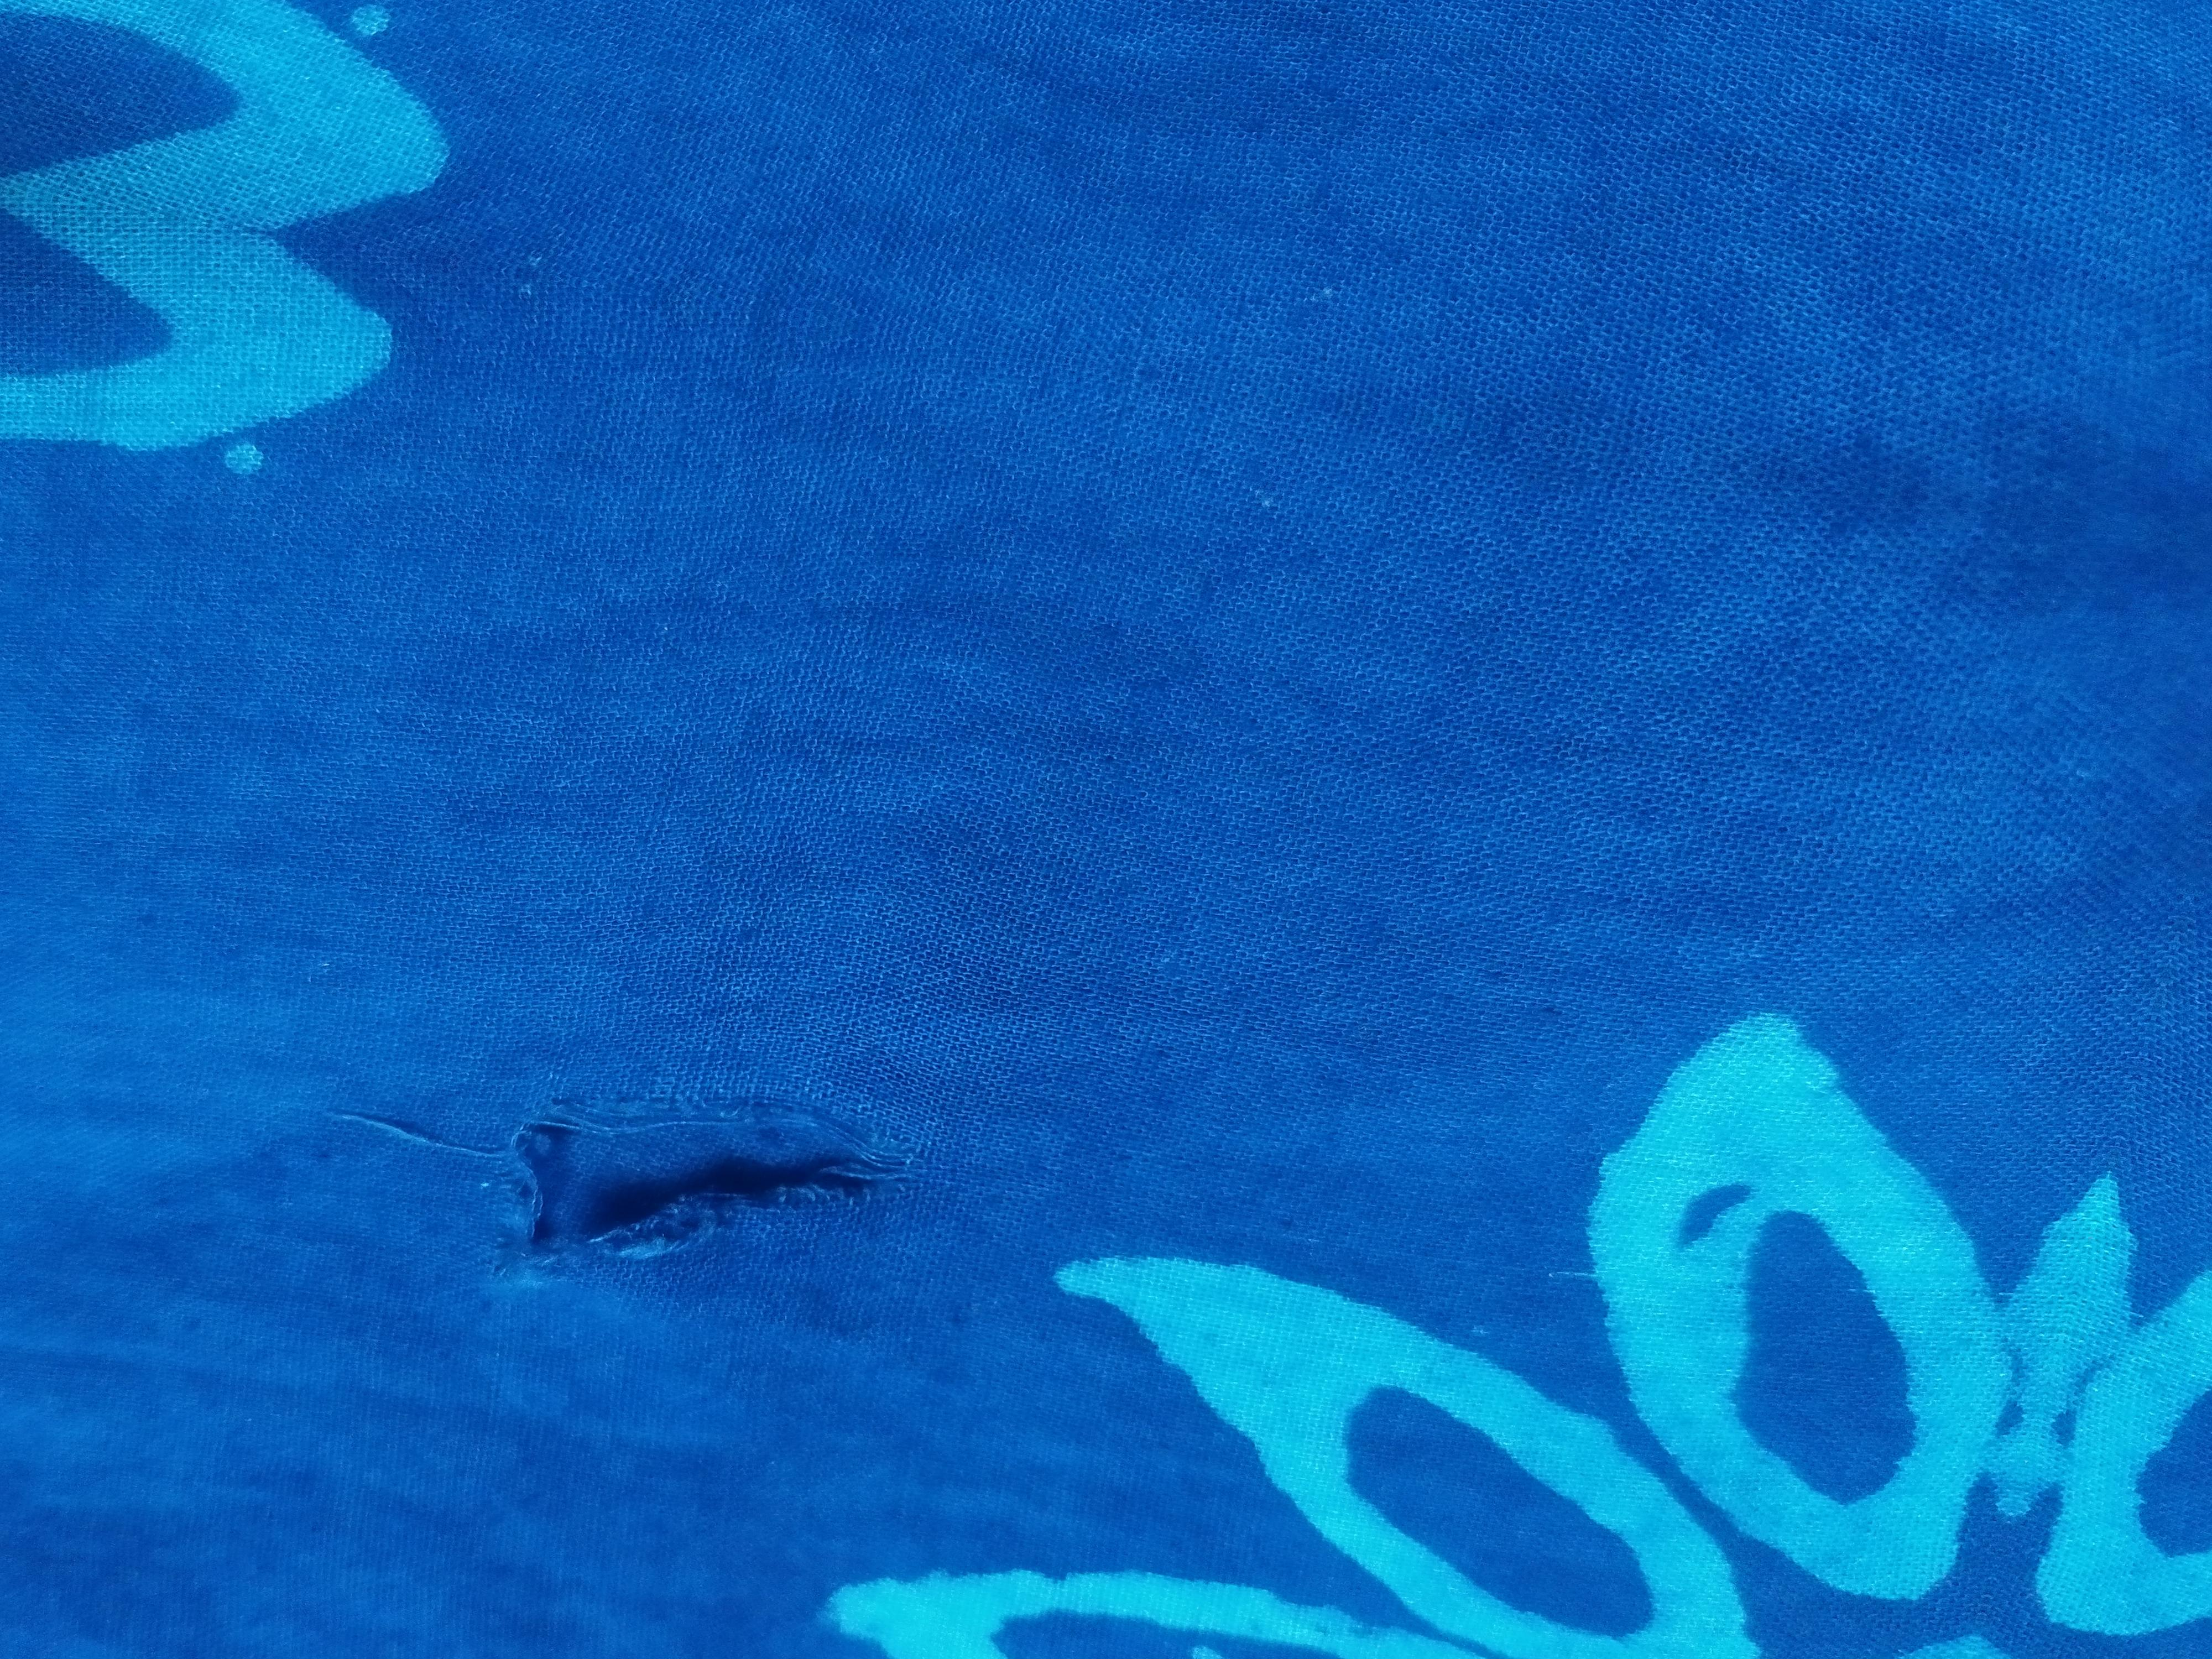hole: (458, 1049, 913, 1316)
